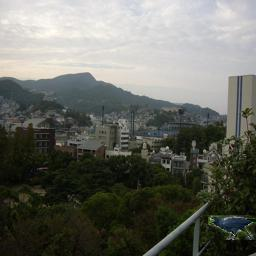Crow: (208, 216, 256, 241)
